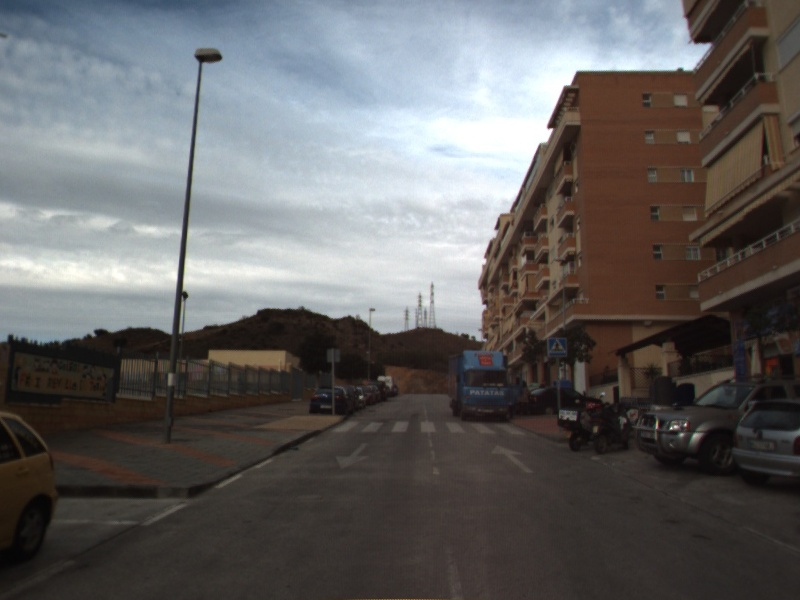STRAIGHT: (489, 443, 537, 475)
